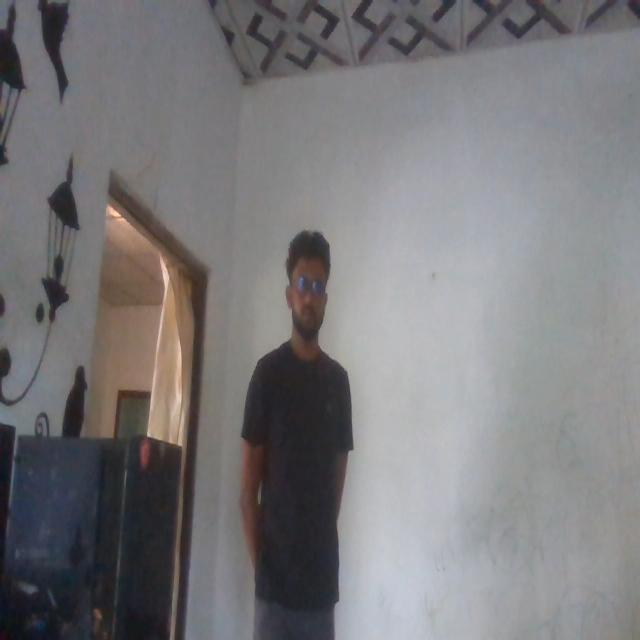Person: (248, 233, 349, 640)
